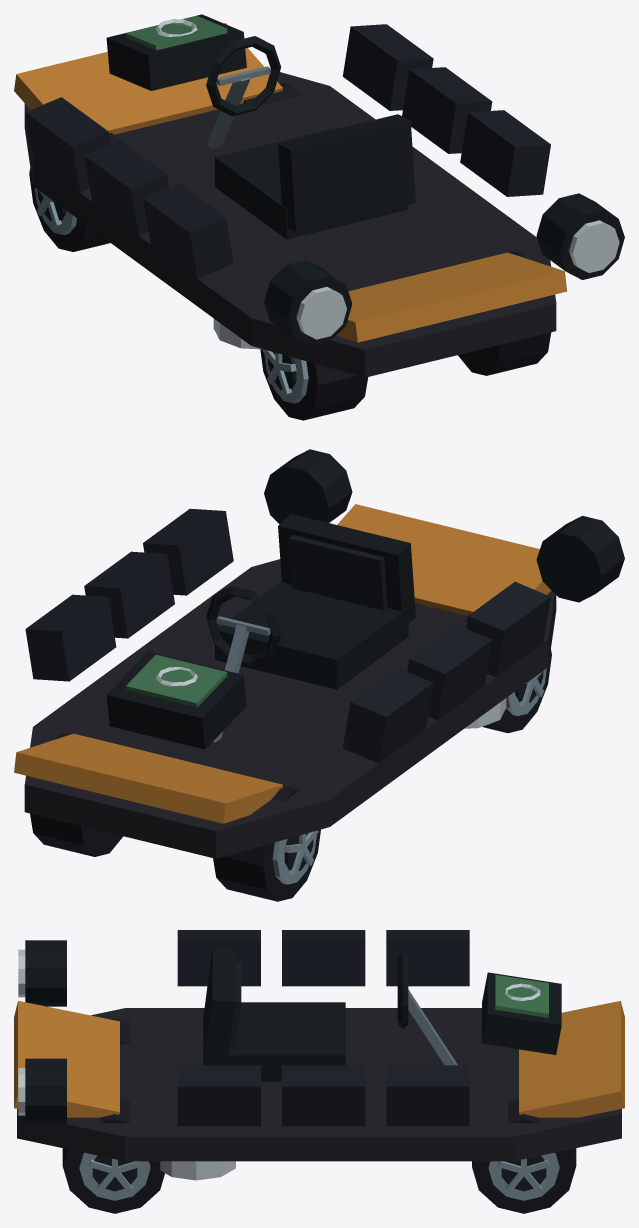
The model's file is kart.glb.
3 views of the same model, one above another, from view 1: azimuth 30°, elevation 25°; view 2: azimuth 150°, elevation 25°; view 3: azimuth 270°, elevation 25° (orthographic). The views are drawn at different scales.
Parts seen in each view (by area): view 1: identity-hoverboard-hoverboard-turned-up-deck, identity-hoverboard-motif-armor, identity-hoverboard-driver-cockpit, identity-hoverboard-motif-thrusters, identity-hoverboard-motif-scanner, wheel-rear-left, wheel-front-left, wheel-rear-right; view 2: identity-hoverboard-hoverboard-turned-up-deck, identity-hoverboard-motif-armor, identity-hoverboard-driver-cockpit, identity-hoverboard-motif-thrusters, identity-hoverboard-motif-scanner, wheel-front-left, wheel-front-right, wheel-rear-left; view 3: identity-hoverboard-hoverboard-turned-up-deck, identity-hoverboard-motif-armor, identity-hoverboard-driver-cockpit, identity-hoverboard-motif-thrusters, identity-hoverboard-motif-scanner, wheel-front-right, wheel-rear-right.
Boxes of the visible parts, x1,y1,x2,y2 form: identity-hoverboard-hoverboard-turned-up-deck: (14, 23, 567, 377); identity-hoverboard-motif-armor: (25, 24, 550, 278); identity-hoverboard-driver-cockpit: (206, 36, 415, 239); identity-hoverboard-motif-thrusters: (264, 193, 624, 346); identity-hoverboard-motif-scanner: (106, 14, 246, 90); wheel-rear-left: (260, 349, 368, 420); wheel-front-left: (29, 132, 117, 251); wheel-rear-right: (458, 251, 551, 375); identity-hoverboard-hoverboard-turned-up-deck: (14, 504, 556, 858); identity-hoverboard-motif-armor: (25, 508, 550, 763); identity-hoverboard-driver-cockpit: (206, 514, 415, 742); identity-hoverboard-motif-thrusters: (264, 449, 624, 602); identity-hoverboard-motif-scanner: (106, 651, 246, 749); wheel-front-left: (213, 785, 320, 901); wheel-front-right: (30, 732, 122, 856); wheel-rear-left: (463, 614, 551, 733); identity-hoverboard-hoverboard-turned-up-deck: (14, 1001, 624, 1180); identity-hoverboard-motif-armor: (177, 930, 469, 1126); identity-hoverboard-driver-cockpit: (203, 948, 457, 1081); identity-hoverboard-motif-thrusters: (18, 940, 66, 1124); identity-hoverboard-motif-scanner: (482, 972, 561, 1054); wheel-front-right: (472, 1098, 576, 1213); wheel-rear-right: (62, 1098, 164, 1213).
Size of the model in its own units: 1.78 by 1.09 by 2.93.
